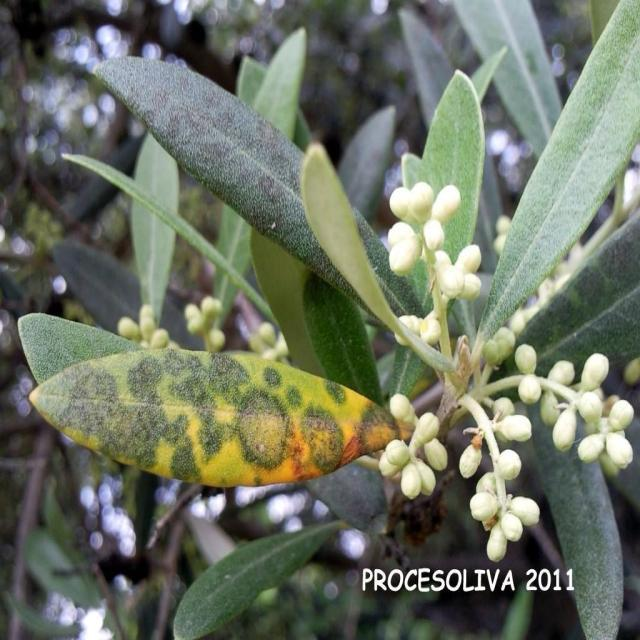OlivePeacockSpot: (30, 349, 409, 486), (96, 58, 320, 262)
